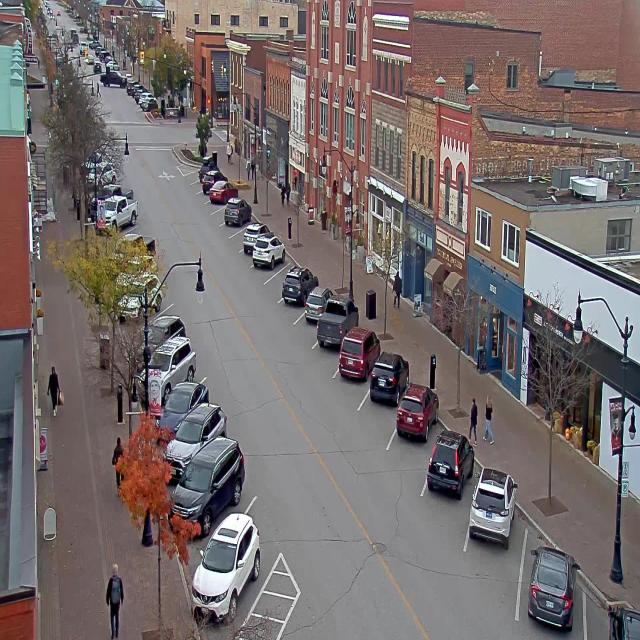available: (264, 257, 297, 292), (226, 219, 250, 251), (210, 202, 227, 229), (182, 168, 198, 186)
occupied: (181, 511, 272, 616), (168, 435, 245, 539), (166, 388, 237, 452), (527, 545, 579, 631), (469, 466, 517, 547), (154, 381, 209, 442), (427, 429, 474, 497), (143, 342, 200, 389), (589, 586, 639, 639), (338, 326, 382, 386), (368, 350, 409, 406), (396, 394, 440, 446), (316, 296, 358, 349), (302, 280, 333, 329), (143, 312, 187, 346), (282, 264, 318, 305), (252, 231, 285, 269), (240, 220, 271, 251), (224, 197, 252, 227), (210, 180, 238, 204), (197, 154, 221, 180), (200, 168, 224, 193)
